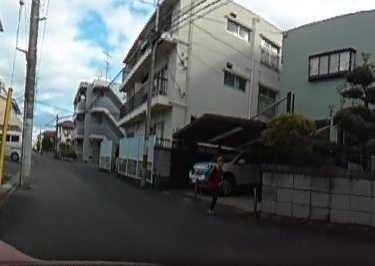person: (206, 155, 225, 207)
